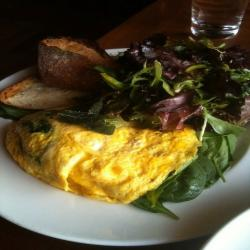bread: (31, 35, 115, 92)
omelette: (7, 105, 203, 208)
salad: (113, 57, 239, 123)
